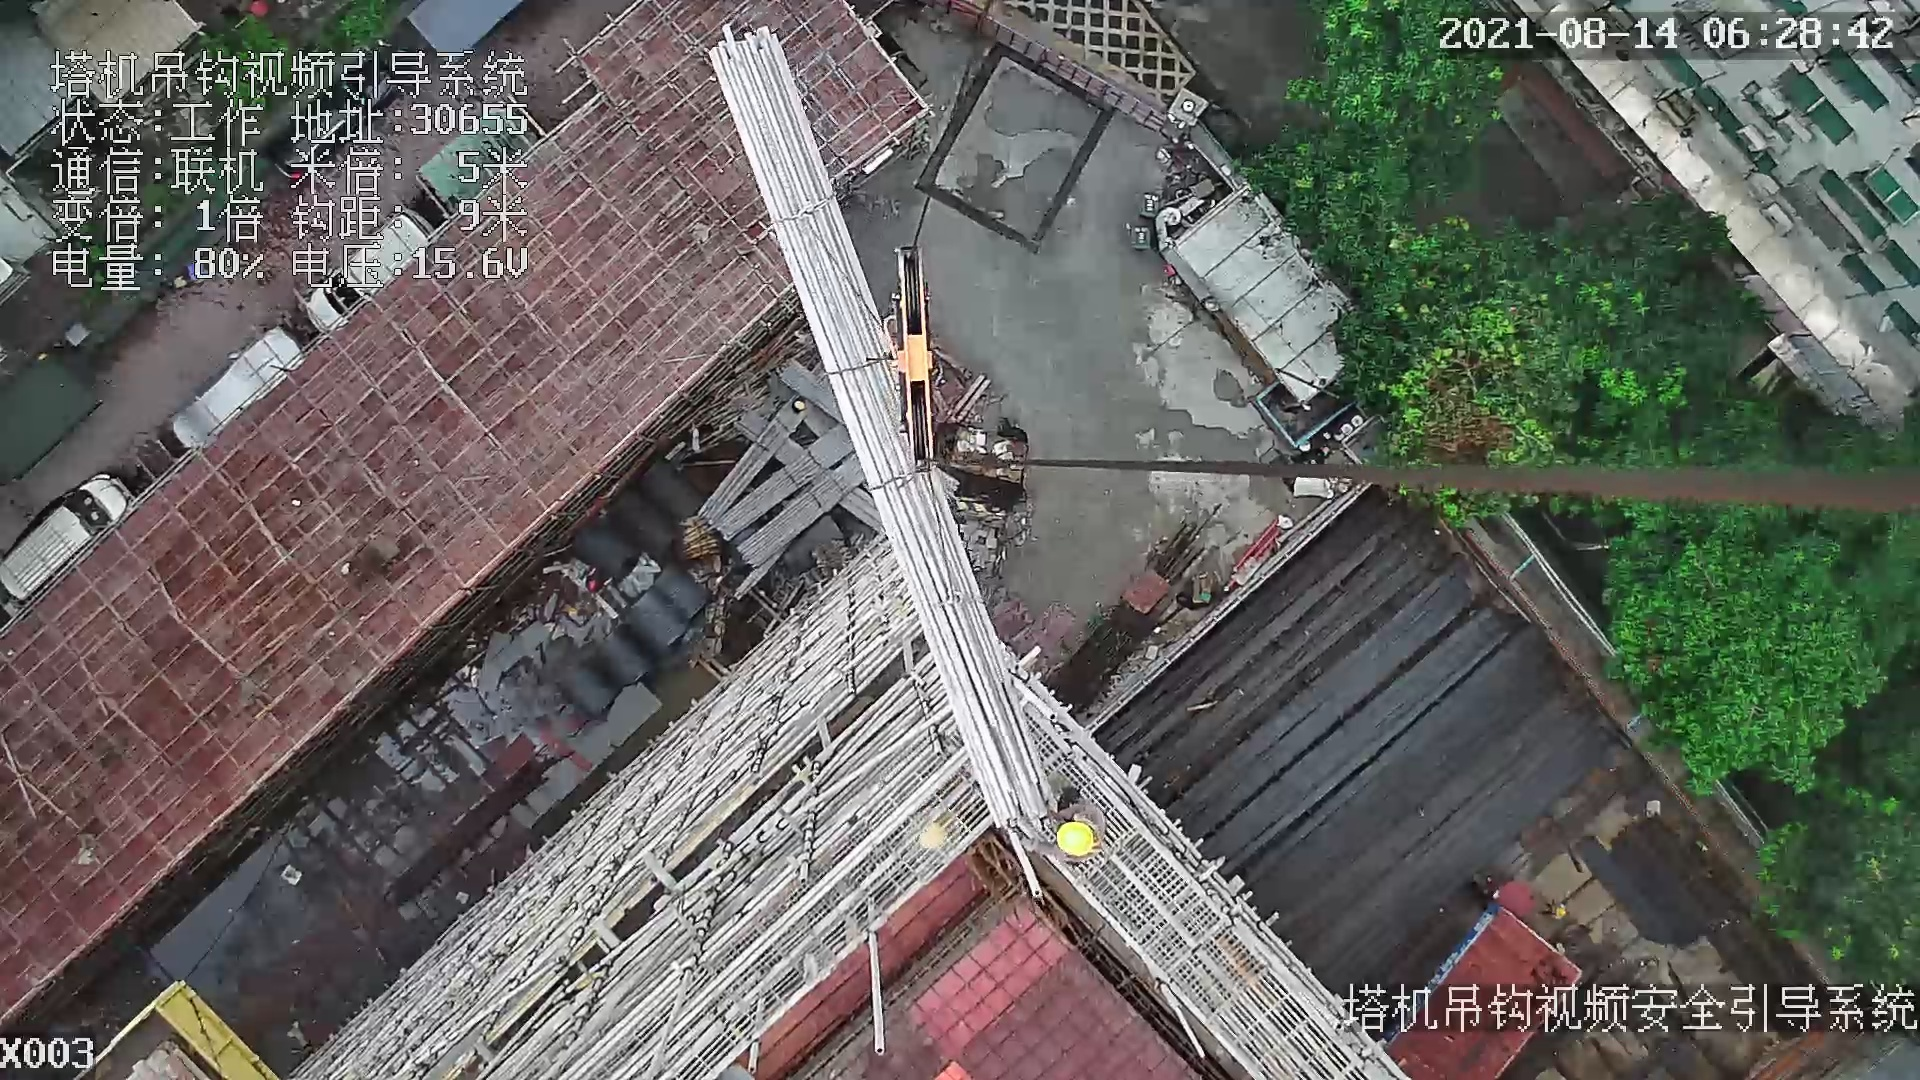helmet: (1051, 817, 1101, 868)
hook: (887, 244, 941, 479)
person: (1030, 790, 1110, 868)
